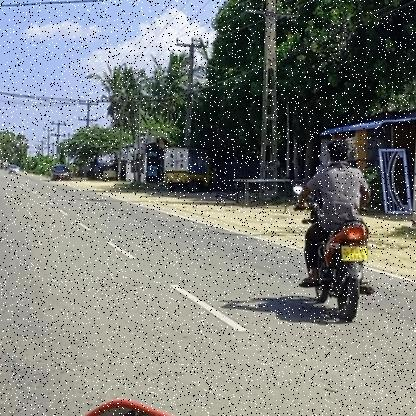motorcycle: (290, 218, 384, 324)
